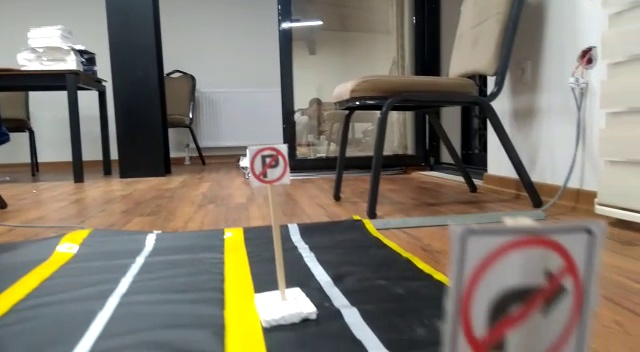park_yapilmaz: (249, 145, 291, 183)
saga_donulmez: (459, 228, 591, 352)
